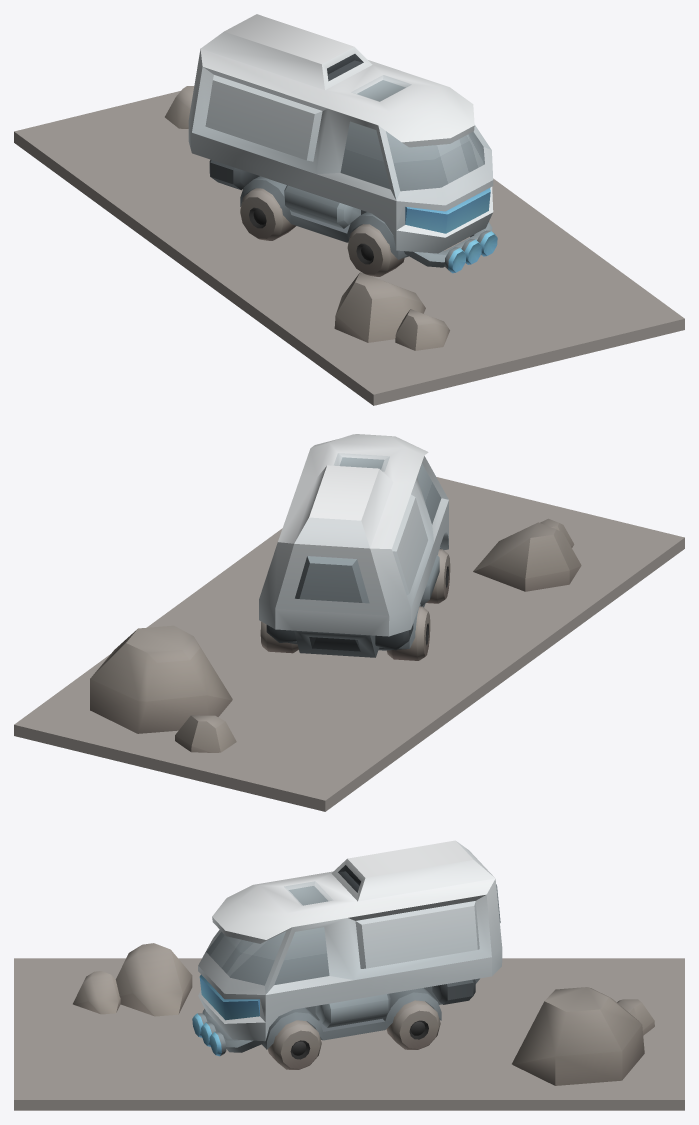
Rendered from space_truck_large.glb.
The picture shows the model from 3 angles, top to bottom: view 1: azimuth 30°, elevation 25°; view 2: azimuth 150°, elevation 25°; view 3: azimuth 270°, elevation 25°; orthographic projection. The views are drawn at different scales.
Parts seen in each view (by area): view 1: Spacetruck_Large; view 2: Spacetruck_Large; view 3: Spacetruck_Large.
Boxes of the visible parts, left/top/right/bottom form: Spacetruck_Large: left=14, top=14, right=684, bottom=405; Spacetruck_Large: left=14, top=434, right=684, bottom=811; Spacetruck_Large: left=14, top=840, right=684, bottom=1110.
Bounding box in the file's own units: 0.29 × 0.1601 × 0.58.
1 material, 1 textured.
